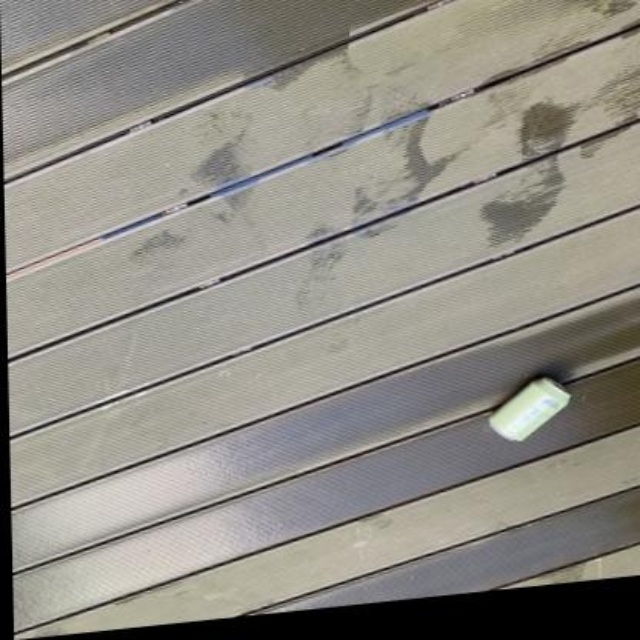trash: (489, 377, 569, 440)
